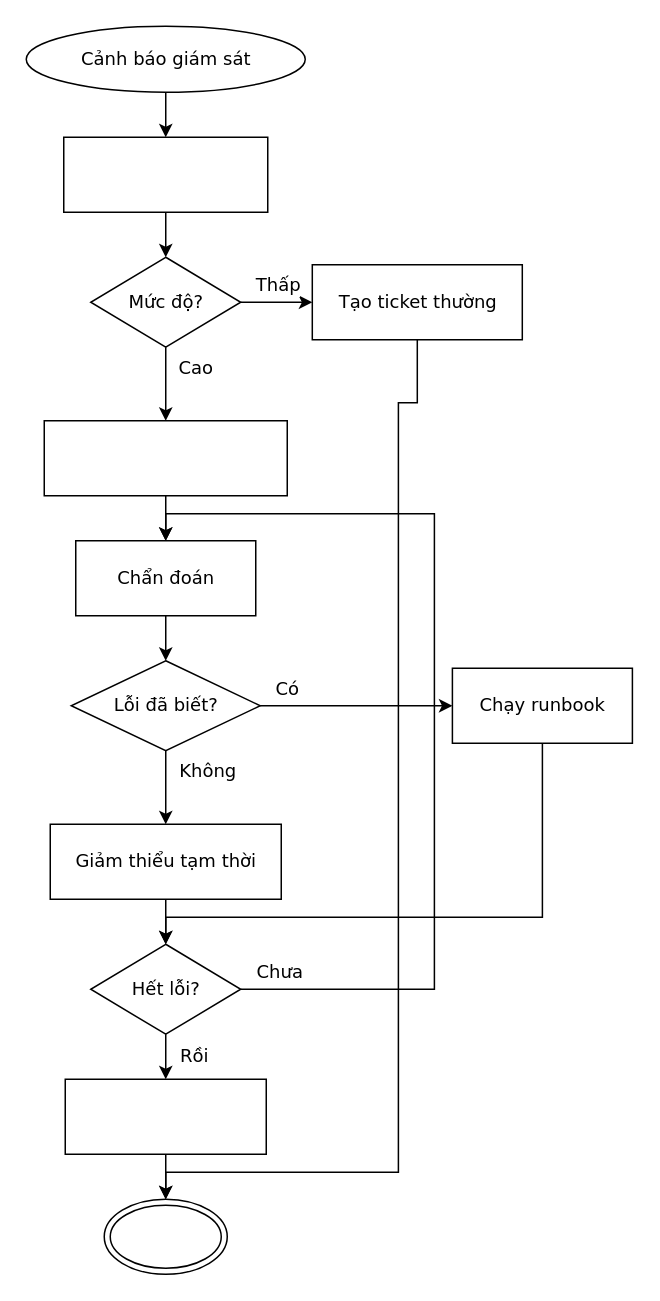
Some shapes in this 660 by 1301 pixel diagram are drawn without their labels. Each missing label, with the centre of its shape:
"Mở phòng xử lý sự cố" belongs at [165,457].
"Trực ca xác nhận" belongs at [165,174].
"Viết postmortem" belongs at [165,1116].
"Đóng" belongs at [165,1236].
